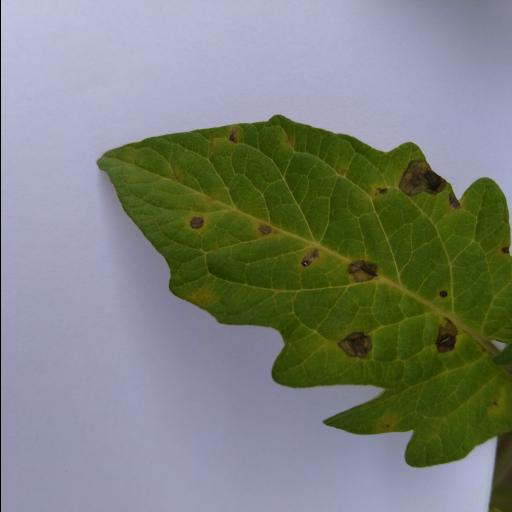Early Blight: (100, 115, 512, 469)
